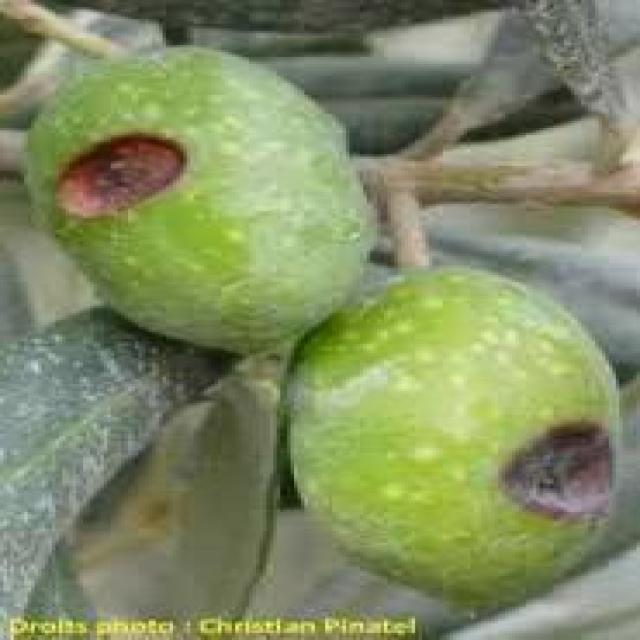Anthracnose: (284, 266, 616, 604), (24, 47, 370, 346)
